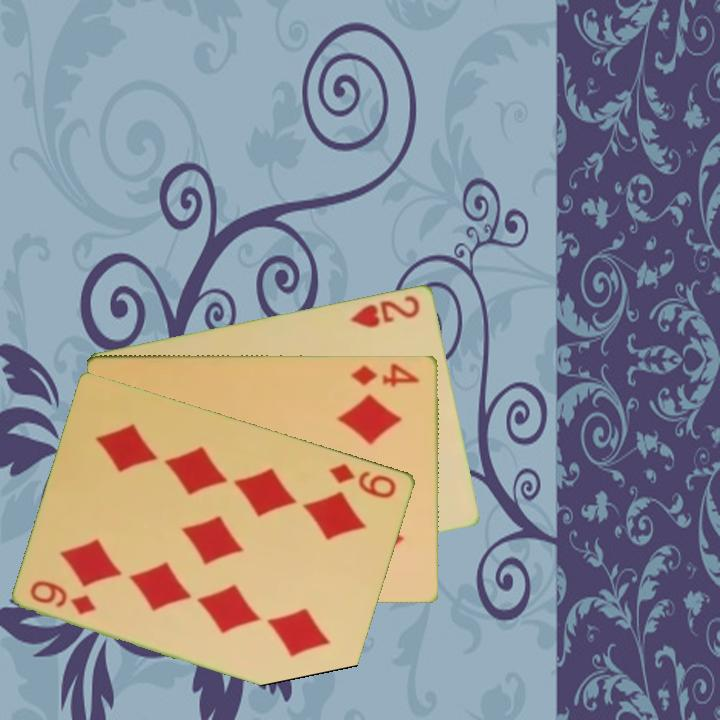2h: (347, 291, 423, 331)
4d: (348, 360, 423, 390)
9d: (325, 459, 400, 501), (26, 576, 99, 618)
